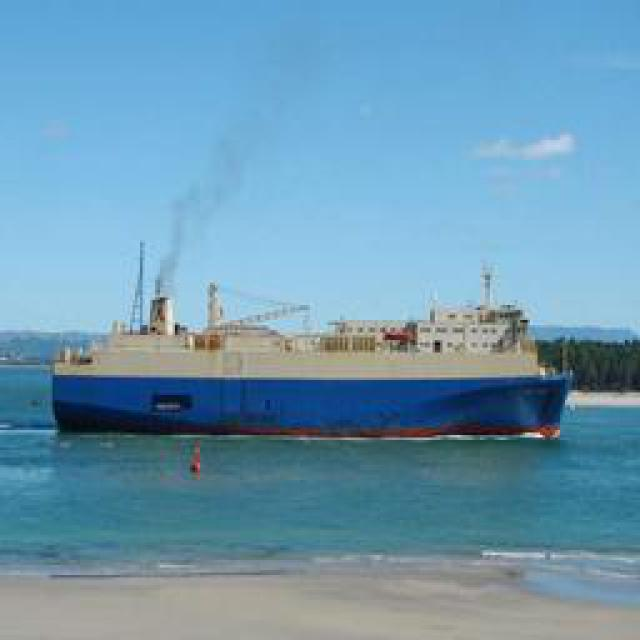Ship: (37, 236, 577, 439)
